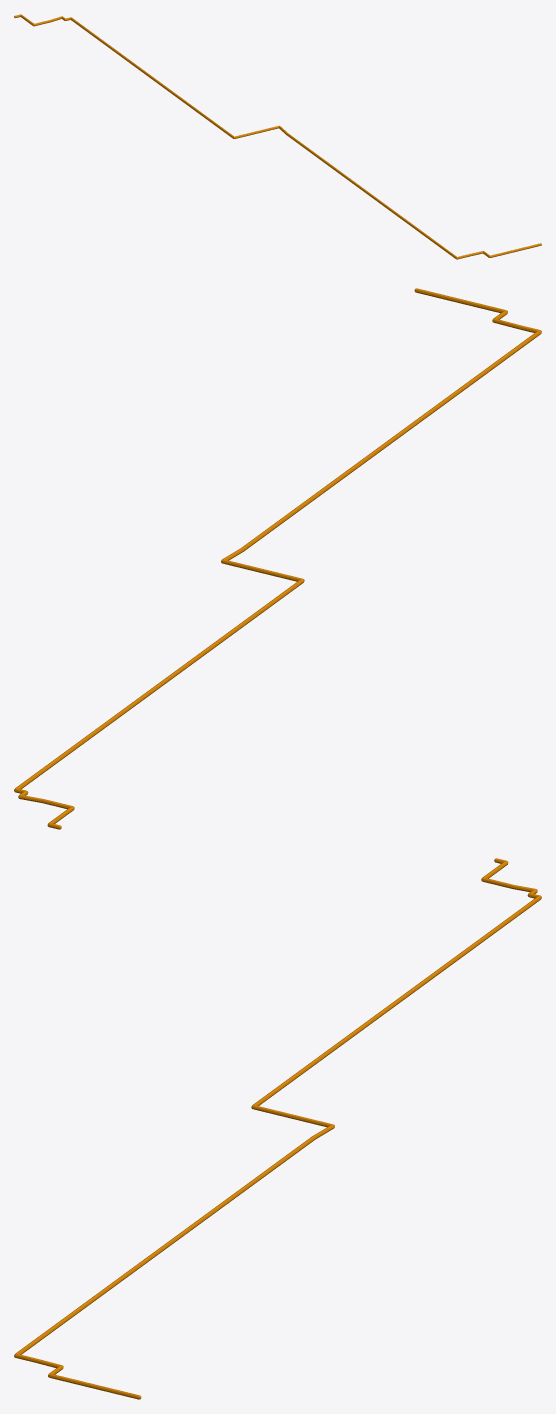
3 views of the same model, one above another, from view 1: azimuth 30°, elevation 25°; view 2: azimuth 150°, elevation 25°; view 3: azimuth 330°, elevation 25° (orthographic). The views are drawn at different scales.
Size of the model in its own units: 1444 by 20 by 5605.
